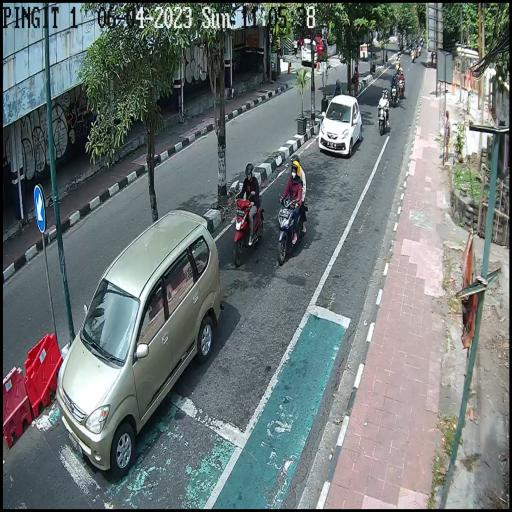mobil: (59, 209, 221, 478), (317, 94, 362, 154)
motor: (230, 190, 265, 269), (276, 192, 307, 266), (377, 100, 389, 135), (389, 84, 398, 108), (398, 79, 406, 101)
